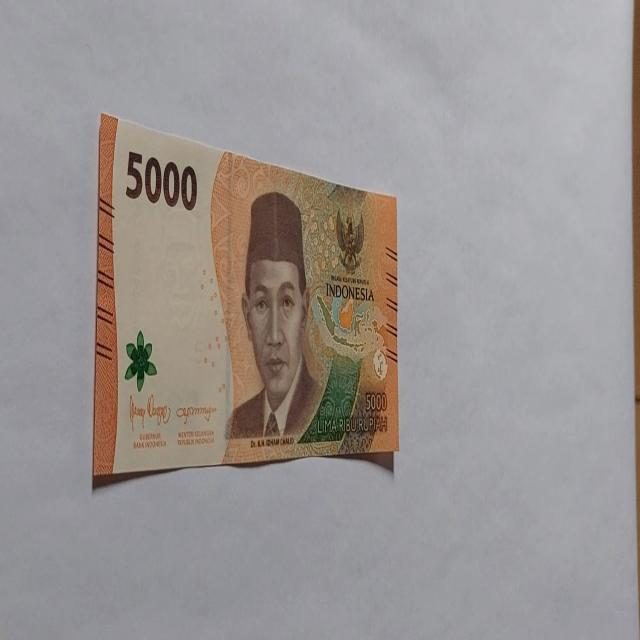lima ribu rupiah: (92, 111, 400, 488), (222, 189, 325, 451)
